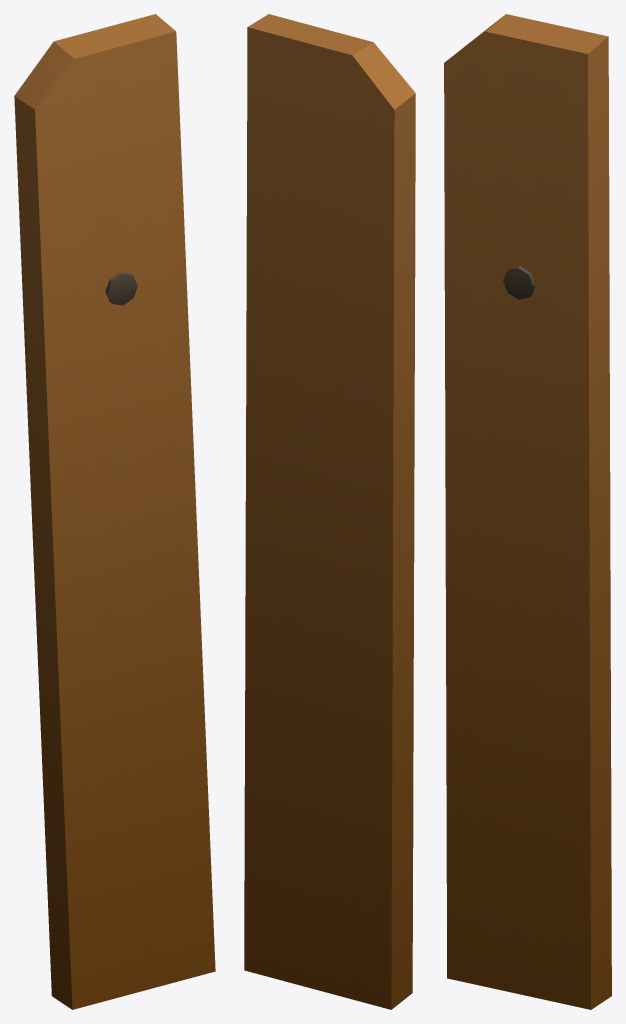
Rendered from Fence_Bit_C.fbx.
The picture shows the model from 3 angles, left to right: view 1: azimuth 30°, elevation 25°; view 2: azimuth 150°, elevation 25°; view 3: azimuth 330°, elevation 25°; orthographic projection. The views are drawn at different scales.
Parts seen in each view (by area): view 1: Fence_Bit_C; view 2: Fence_Bit_C; view 3: Fence_Bit_C.
Boxes of the visible parts, x1=… form: Fence_Bit_C: x1=14, y1=14, x2=215, y2=1009; Fence_Bit_C: x1=244, y1=14, x2=415, y2=1009; Fence_Bit_C: x1=444, y1=14, x2=611, y2=1009.
Size of the model in its own units: 18.26 by 100 by 7.49.
